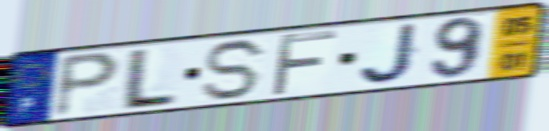9: (429, 14, 489, 82)
F: (267, 29, 340, 99)
J: (356, 20, 423, 87)
L: (115, 46, 181, 113)
P: (49, 50, 124, 120)
S: (201, 37, 271, 103)
